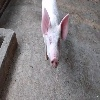heo: (39, 4, 70, 70)
